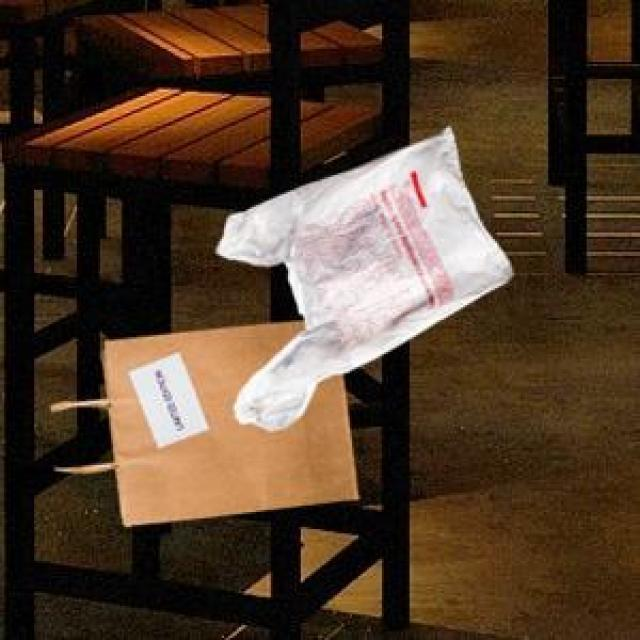paper: (47, 316, 354, 523)
